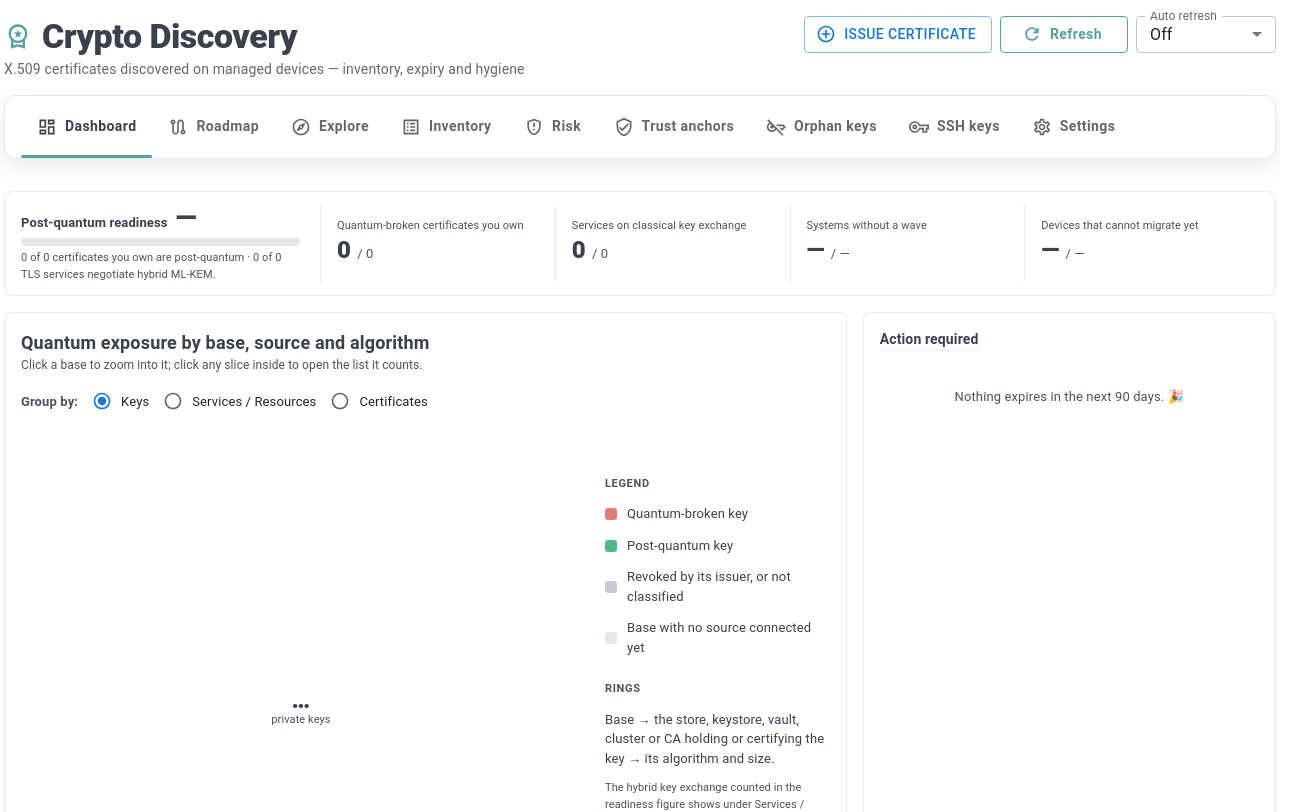
Test case: pestañas de Crypto Discovery › ⭐ «Settings» pinta lo suyo, y «Orphan keys» NO lo pinta; la matriz de vistobueno ya no está aquí
Click the tab "Orphan keys": [822, 127] box [750,96,893,158]
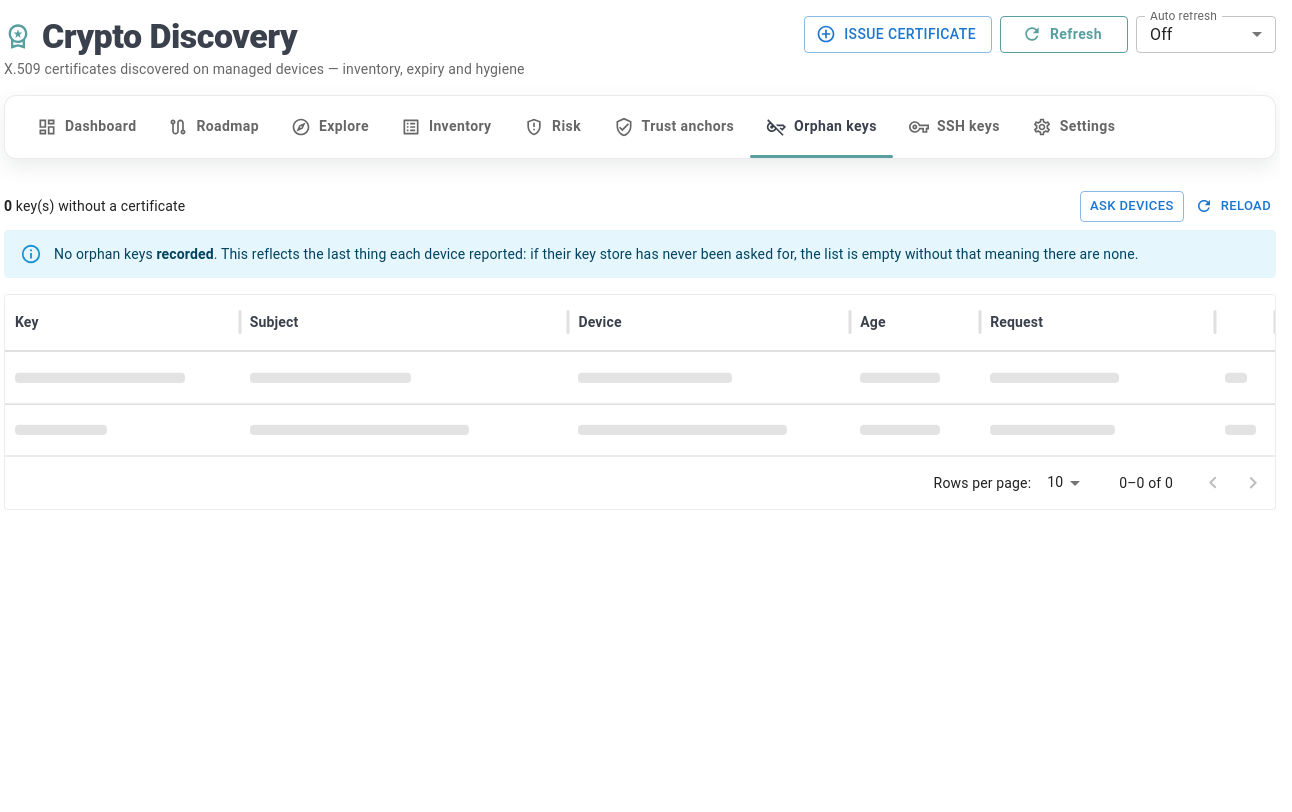
Expected: the text "without that meaning there are none" is shown, [214,246,1139,262]
Click the tab "Settings": [1074, 127] box [1016,96,1131,158]
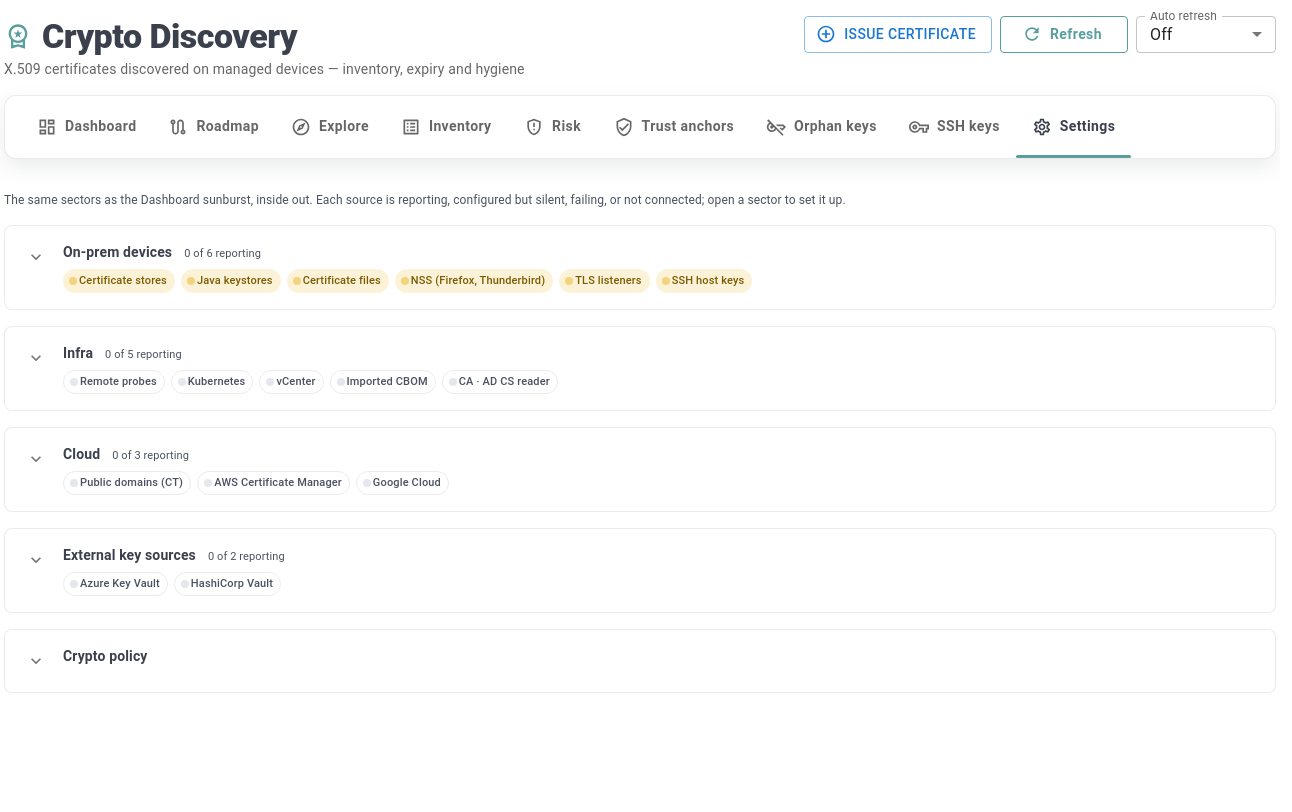
Expected: the text "without that meaning" is gone
